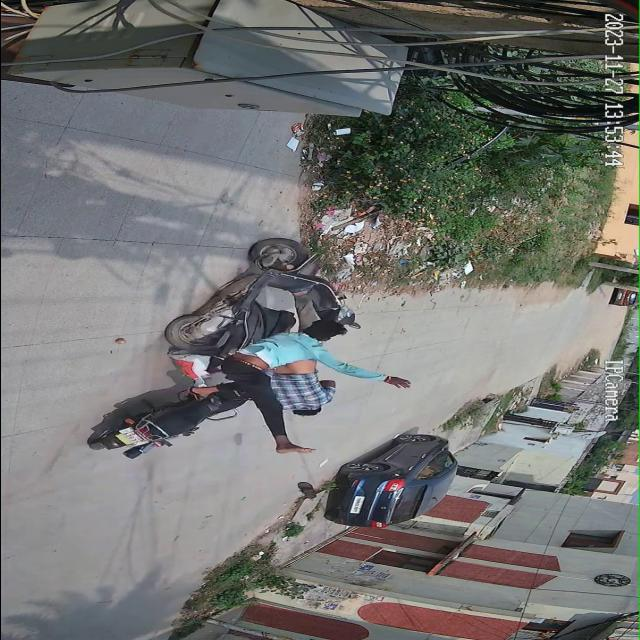accident: (80, 234, 420, 474)
